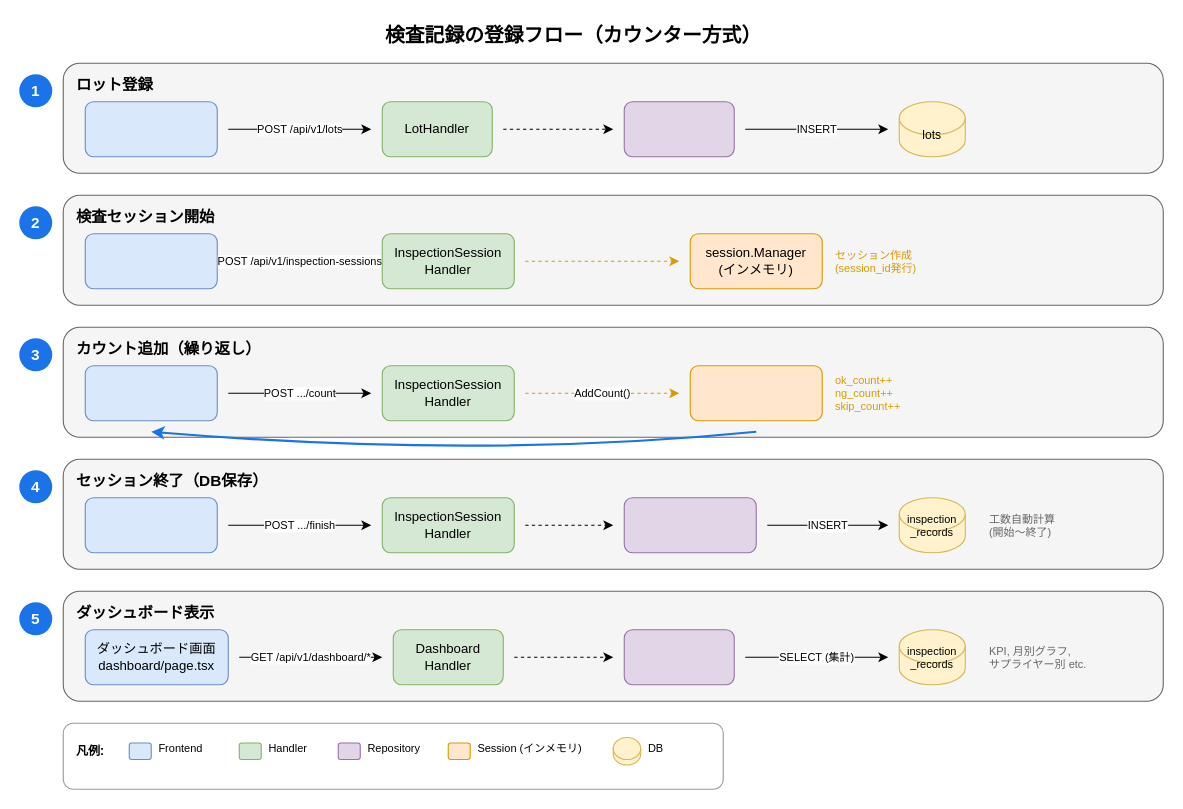
Image size: 1183x809. Some labels were removed from this diagram. The shapes that lost their labels are listed below. From the top down, each one's centre as x and y in pixels, then its label:
pixel 150 129: ロット登録画面 page.tsx
pixel 678 129: LotRepository
pixel 150 261: カウンター画面 inspection/page.tsx
pixel 150 393: OK / NG / SKIP ボタン押下
pixel 755 393: session.Manager (インメモリ更新)
pixel 150 525: 「検査完了」 ボタン押下
pixel 689 525: InspectionRecord Repository
pixel 678 657: Dashboard Repository
